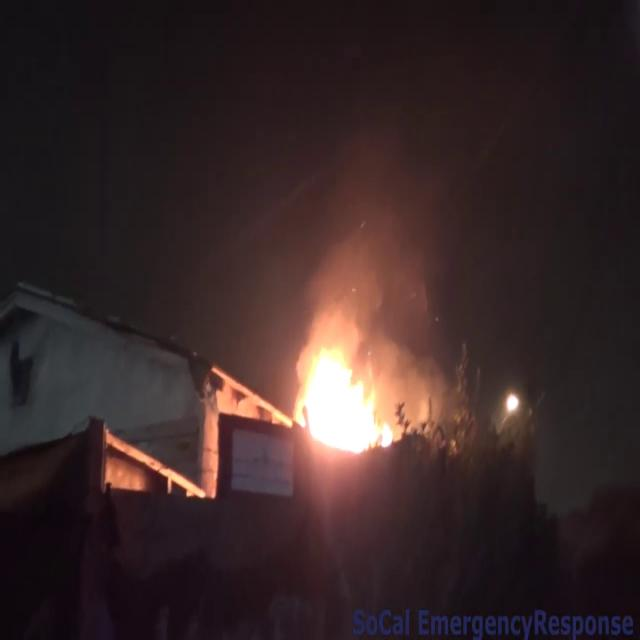Fire: (282, 324, 397, 462)
